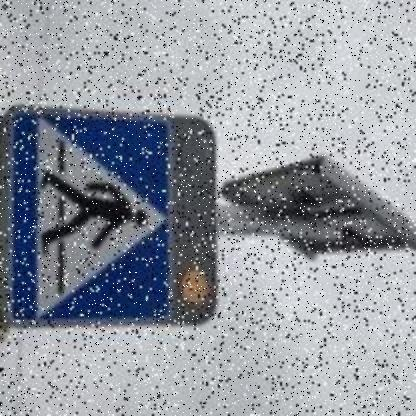Pedestrian Crossing: (3, 108, 175, 328)
